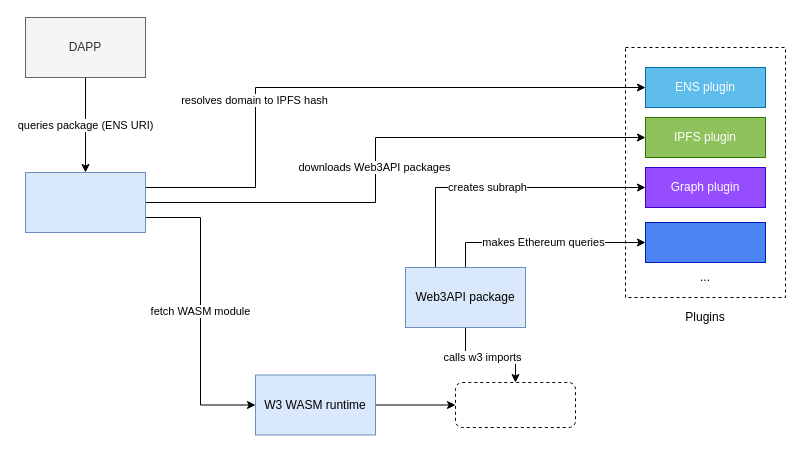
This 803x453 diagram has some shape labels left out. Here are the shapes that lost their labels. From the top down, the centre of each, then its label:
point (85, 202): Web3API client
point (705, 242): Ethereum plugin
point (515, 405): generated AssemblyScript code
